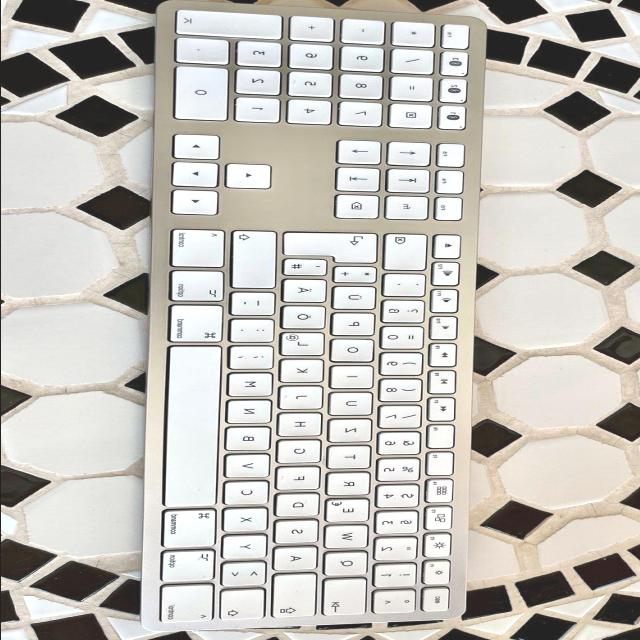0: (382, 327, 428, 351)
1: (375, 564, 420, 589)
2: (376, 538, 421, 562)
3: (377, 512, 422, 536)
4: (378, 486, 424, 510)
5: (378, 459, 424, 483)
6: (379, 432, 424, 456)
7: (379, 406, 425, 430)
8: (380, 380, 425, 404)
9: (381, 353, 427, 377)
a: (275, 548, 322, 573)
accent: (386, 275, 430, 299)
ae: (284, 281, 331, 305)
alt-left: (162, 550, 220, 584)
altgr-right: (171, 271, 229, 304)
b: (227, 427, 275, 453)
c: (225, 481, 273, 507)
caret: (374, 591, 419, 615)
comma: (231, 347, 279, 371)
d: (277, 495, 325, 519)
del: (385, 235, 432, 273)
e: (327, 499, 374, 524)
enter: (284, 234, 382, 266)
f: (277, 468, 324, 492)
g: (278, 441, 326, 465)
h: (279, 414, 327, 438)
hash: (284, 260, 331, 278)
i: (333, 367, 378, 391)
j: (280, 387, 328, 411)
k: (282, 360, 329, 384)
keyboard: (140, 5, 483, 631)
l: (282, 333, 329, 357)
less: (223, 562, 270, 588)
m: (229, 373, 277, 399)
minus: (232, 293, 279, 317)
n: (228, 400, 276, 426)
o: (332, 340, 379, 364)
oe: (282, 307, 329, 331)
p: (333, 314, 378, 338)
plus: (335, 268, 381, 285)
point: (232, 320, 279, 344)
q: (325, 552, 372, 578)
r: (328, 473, 375, 497)
s: (276, 521, 323, 545)
shift-left: (222, 590, 270, 622)
shift-lock: (274, 574, 321, 619)
shift-right: (234, 232, 282, 291)
space: (166, 347, 225, 509)
ss: (383, 301, 428, 325)
strg-left: (161, 585, 219, 625)
strg-right: (172, 229, 230, 270)
t: (329, 447, 375, 471)
tab: (324, 579, 371, 617)
u: (330, 393, 378, 417)
ue: (333, 287, 380, 311)
v: (227, 454, 275, 480)
w: (326, 526, 373, 550)
x: (224, 509, 272, 534)
y: (224, 535, 272, 561)
z: (330, 420, 376, 444)
